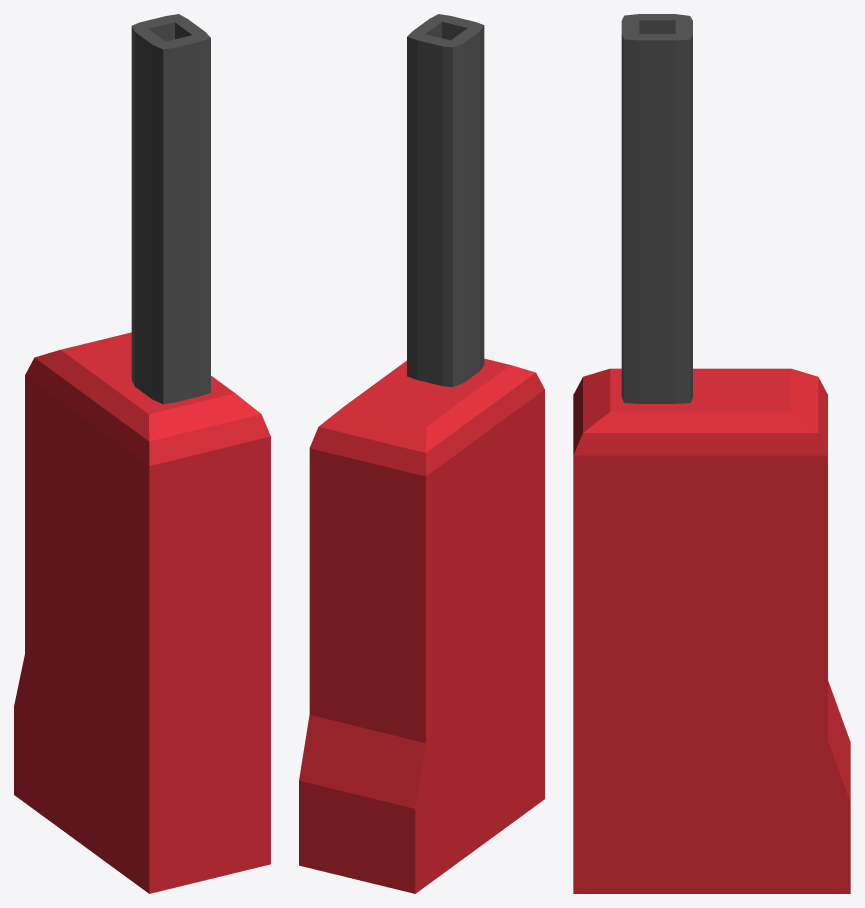
Rendered from lighter.fbx.
3 views of the same model, side by side, from view 1: azimuth 30°, elevation 25°; view 2: azimuth 150°, elevation 25°; view 3: azimuth 270°, elevation 25° (orthographic). The views are drawn at different scales.
Visible parts, largest first — view 1: Cube; view 2: Cube; view 3: Cube.
Part boxes in pixels (x1,y1,x2,y2): Cube: [14, 14, 270, 893]; Cube: [299, 14, 544, 893]; Cube: [573, 14, 850, 893].
Bounding box in the file's own units: 11.51 × 73.9 × 22.18.
